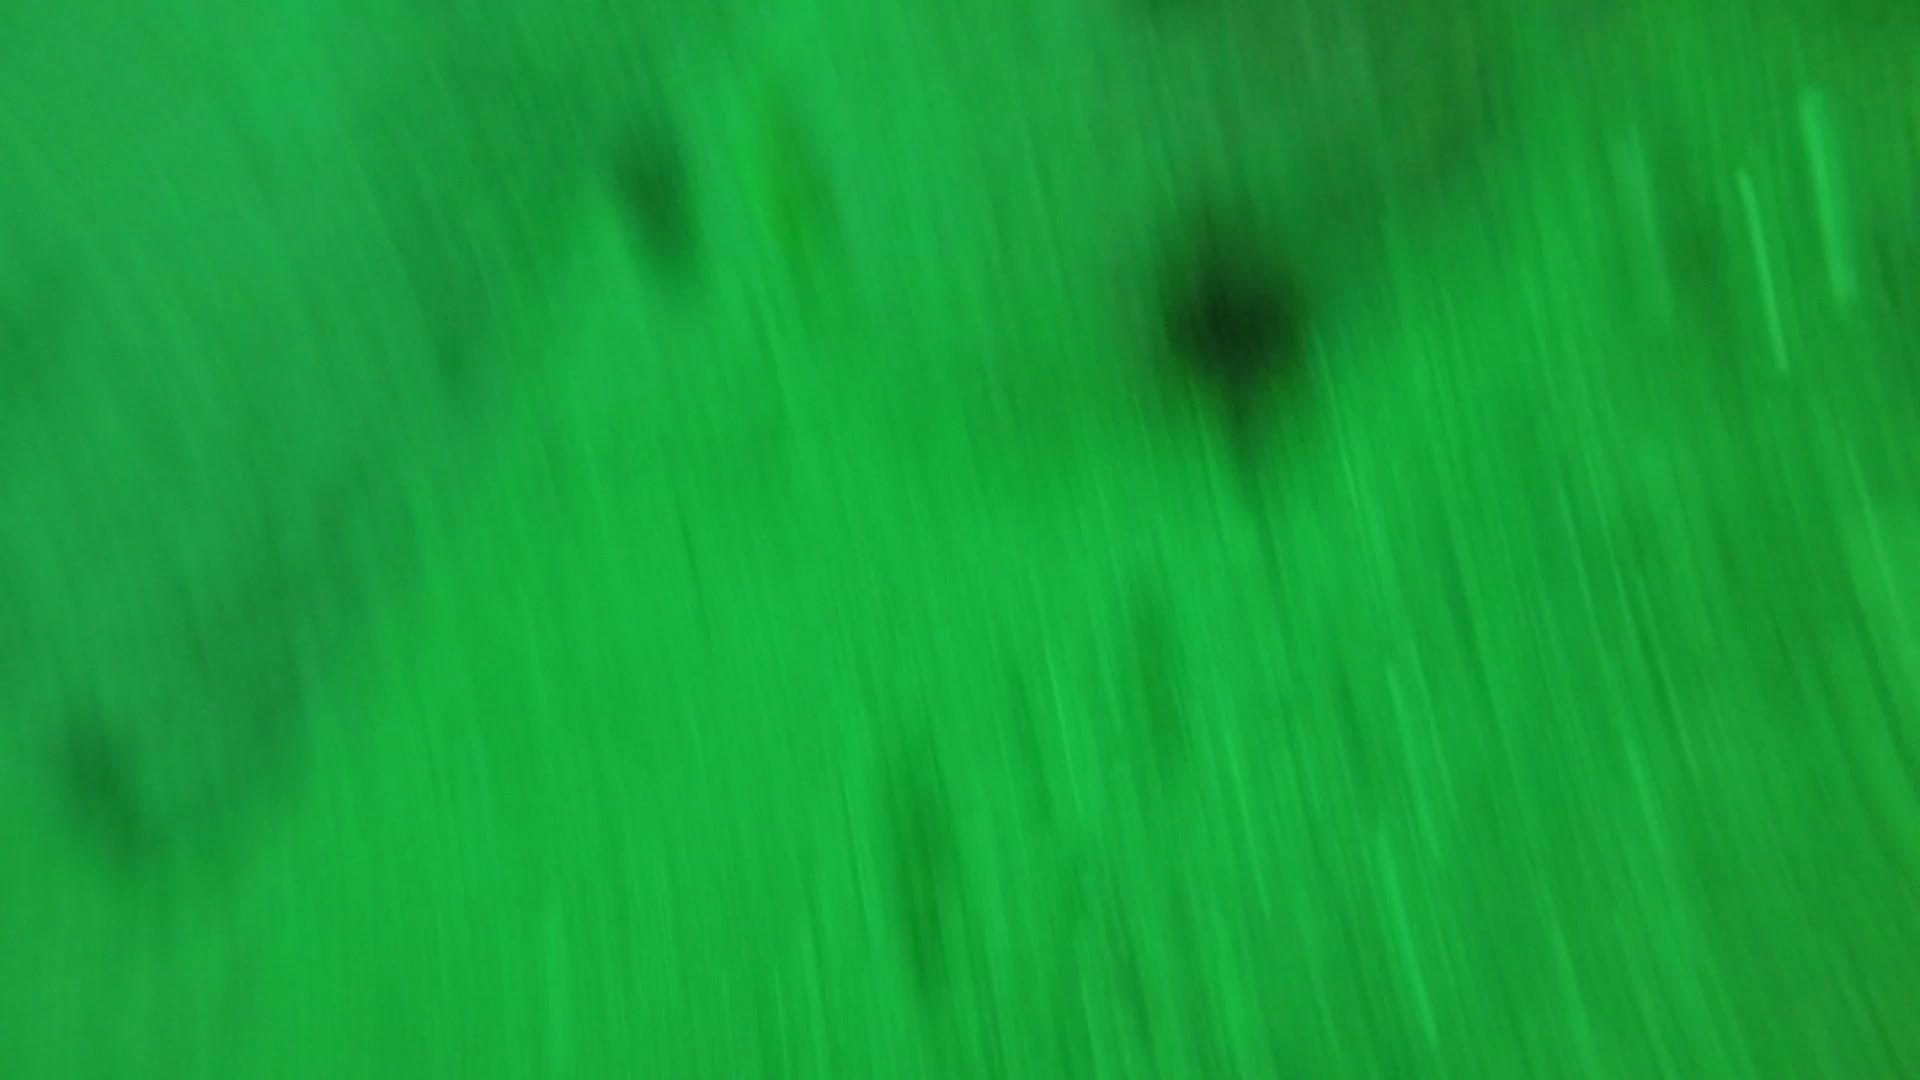echinus: (1147, 220, 1320, 404), (600, 109, 716, 285)
